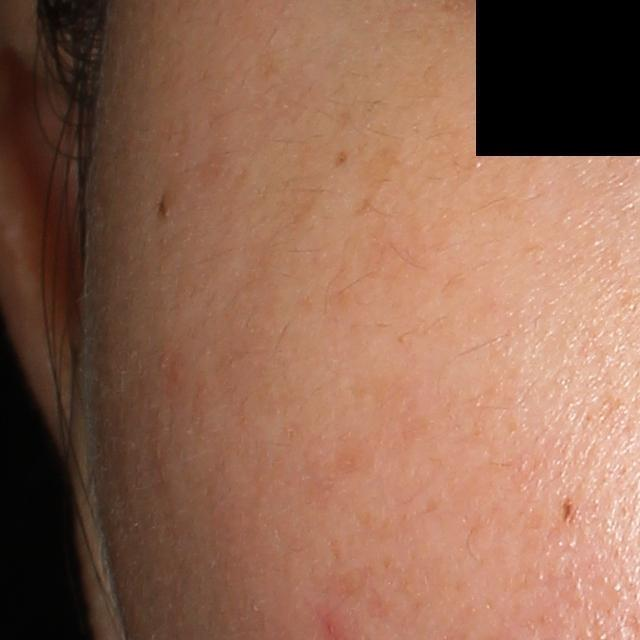nevus: (558, 494, 581, 526), (156, 188, 174, 223)
